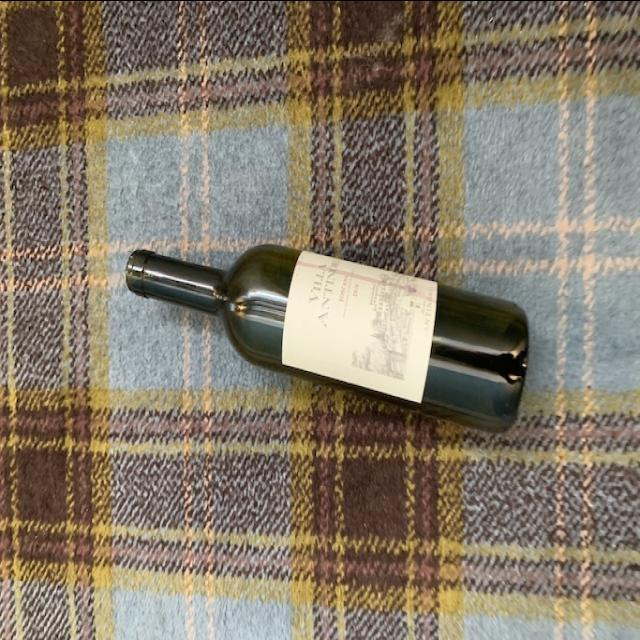Glass Bottle: (124, 226, 536, 434)
